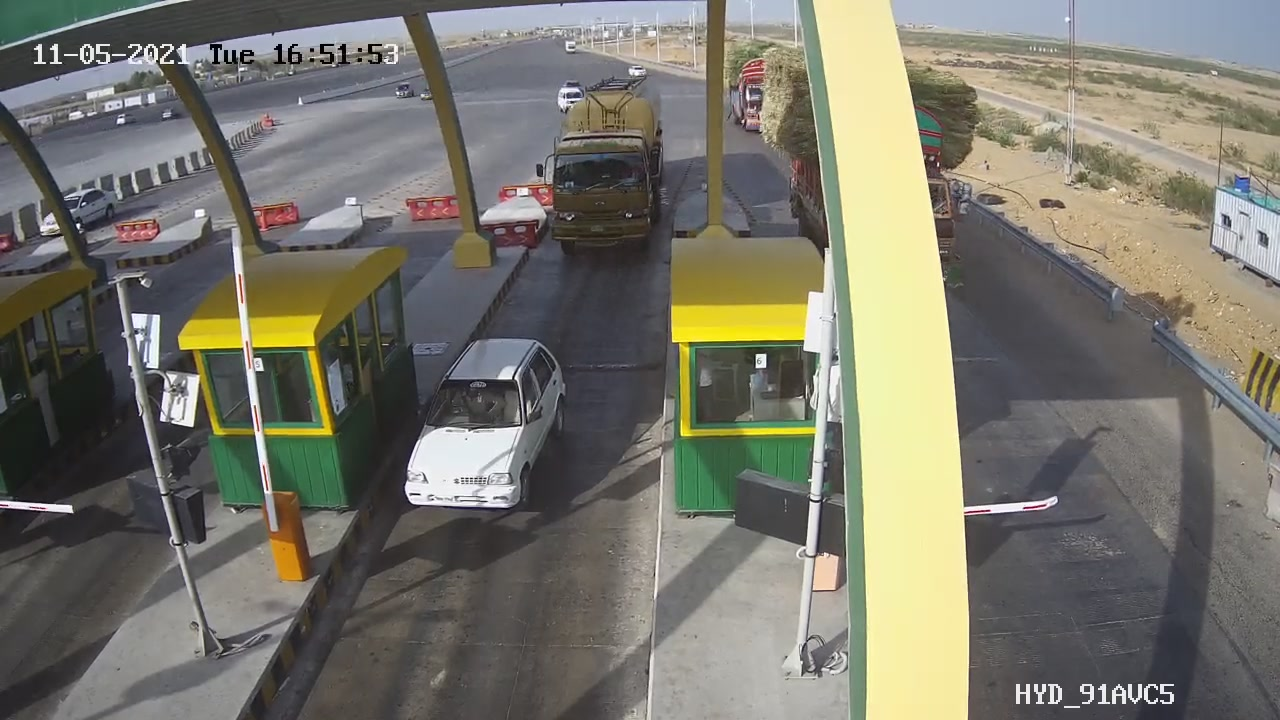F1: (385, 327, 583, 524)
